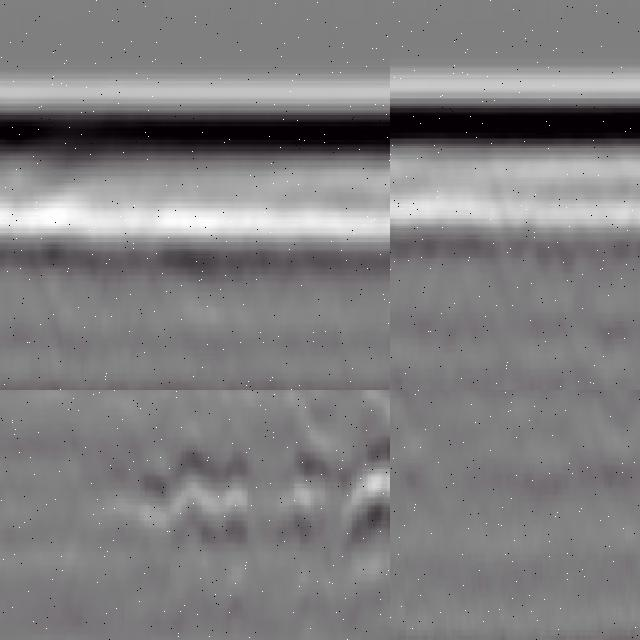loose: (141, 419, 391, 552)
